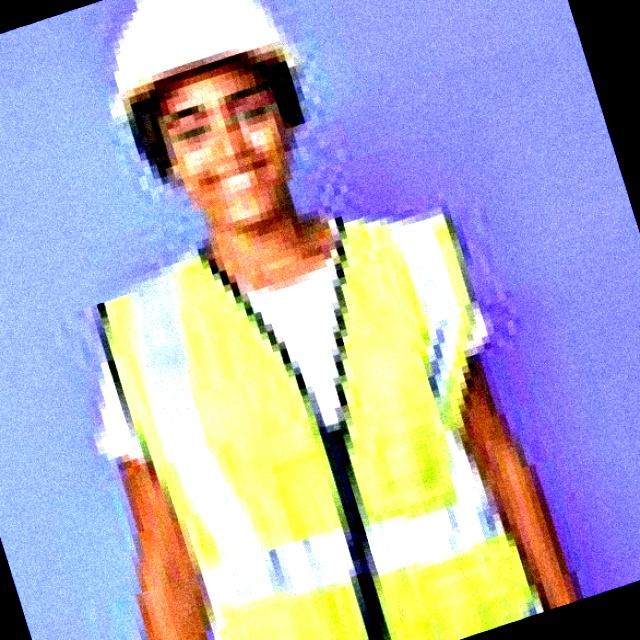safety_vest: (86, 209, 564, 640)
